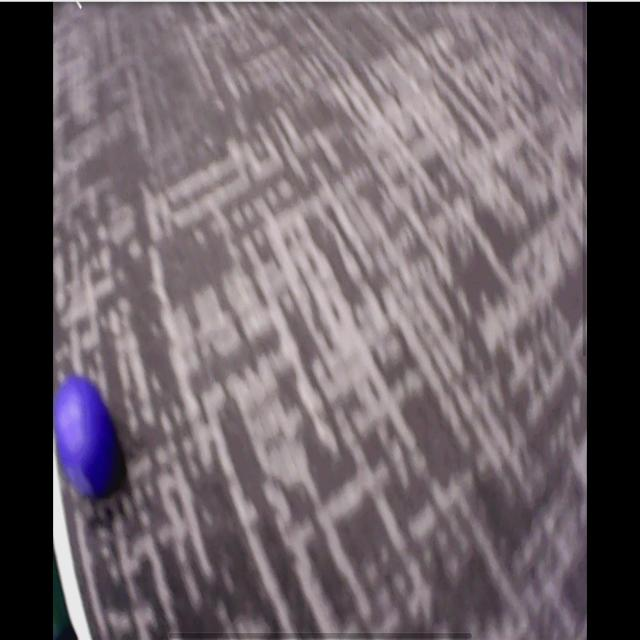ball: (56, 379, 120, 499)
